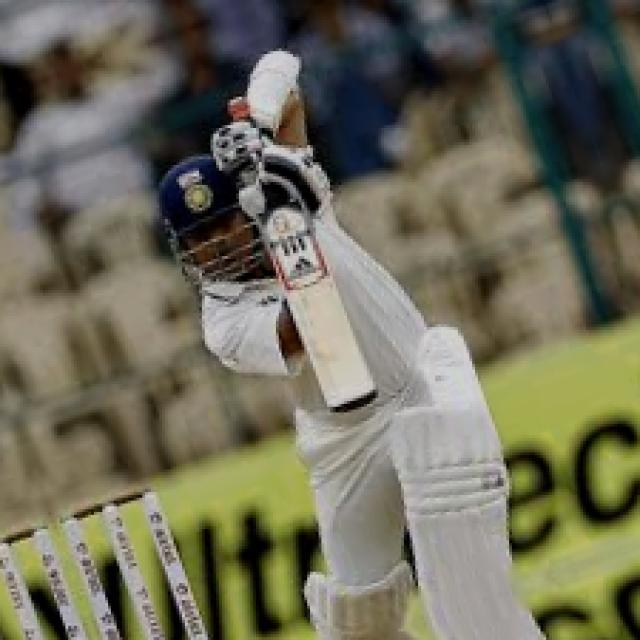toe: (322, 379, 388, 420)
